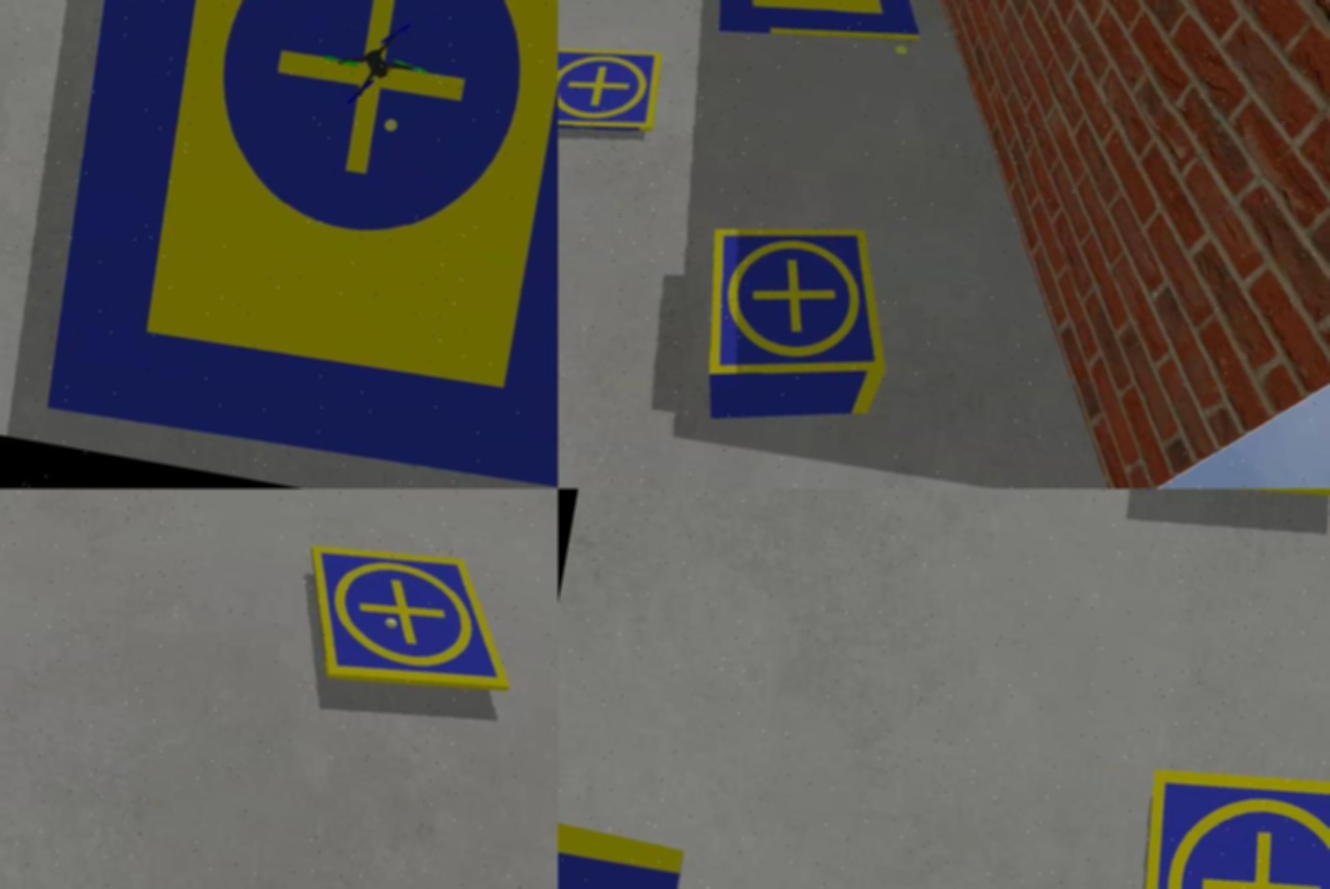large_base: (22, 1, 558, 490), (697, 1, 944, 68)
small_base: (690, 205, 912, 406), (293, 535, 530, 705), (1113, 747, 1330, 889), (558, 32, 666, 148), (1126, 490, 1330, 516)
